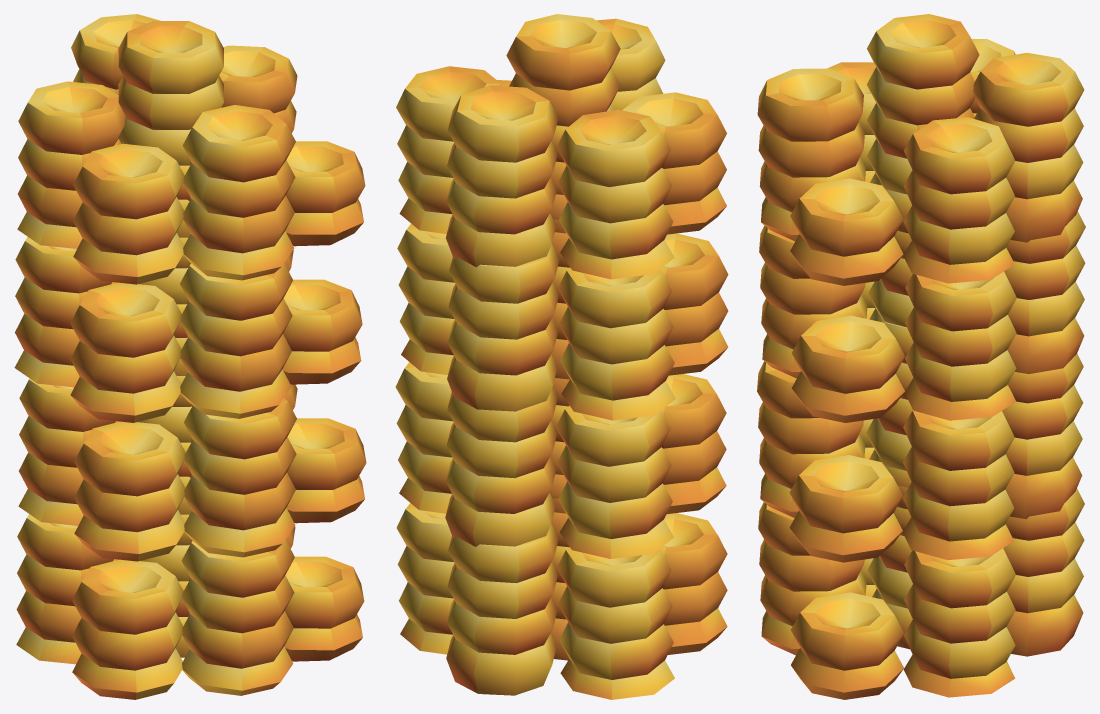
Rendered from coin-pile-tall.glb.
3 views of the same model, side by side, from view 1: azimuth 30°, elevation 25°; view 2: azimuth 150°, elevation 25°; view 3: azimuth 270°, elevation 25° (orthographic).
Parts seen in each view (by area): view 1: CoinPileLayer04, CoinPileLayer01, CoinPileLayer03, CoinPileLayer02; view 2: CoinPileLayer04, CoinPileLayer01, CoinPileLayer03, CoinPileLayer02; view 3: CoinPileLayer04, CoinPileLayer02, CoinPileLayer01, CoinPileLayer03.
Part boxes in pixels (x1,y1,x2,y2): CoinPileLayer04: [17, 14, 365, 284]; CoinPileLayer01: [16, 476, 364, 699]; CoinPileLayer03: [14, 199, 362, 422]; CoinPileLayer02: [18, 337, 366, 561]; CoinPileLayer04: [396, 14, 726, 279]; CoinPileLayer01: [396, 474, 727, 699]; CoinPileLayer03: [397, 194, 728, 420]; CoinPileLayer02: [395, 362, 726, 558]; CoinPileLayer04: [757, 14, 1084, 285]; CoinPileLayer02: [757, 308, 1083, 562]; CoinPileLayer01: [758, 449, 1084, 699]; CoinPileLayer03: [759, 173, 1085, 422].
Size of the model in its own units: 1.06 by 2.2 by 1.1.
Materials: 1 (1 with a texture image).
